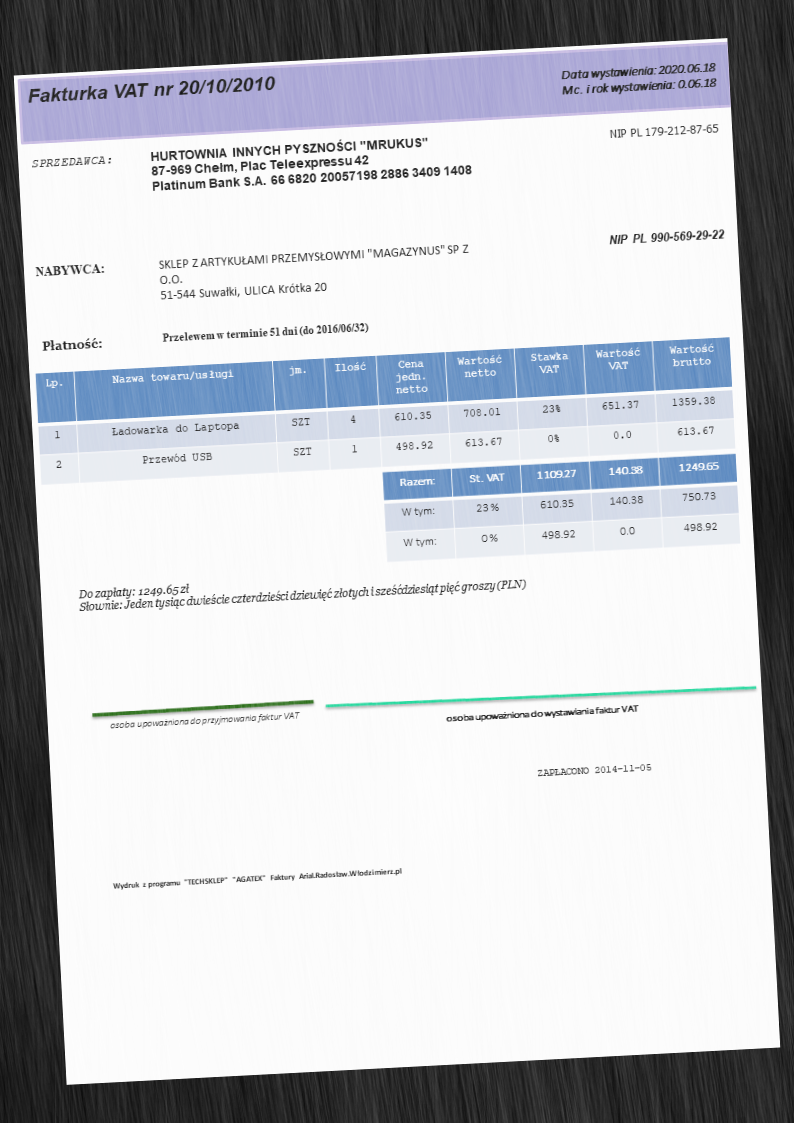Table: (33, 334, 736, 487), (380, 451, 741, 563)
TextBox: (75, 562, 529, 617), (147, 130, 475, 196), (158, 241, 471, 303), (24, 73, 278, 107), (110, 863, 406, 892), (557, 58, 723, 97), (160, 319, 370, 345), (107, 708, 302, 733), (442, 702, 640, 725), (607, 225, 725, 248), (605, 119, 719, 142), (535, 760, 653, 779), (27, 151, 114, 170), (33, 260, 106, 279), (41, 334, 104, 353)
